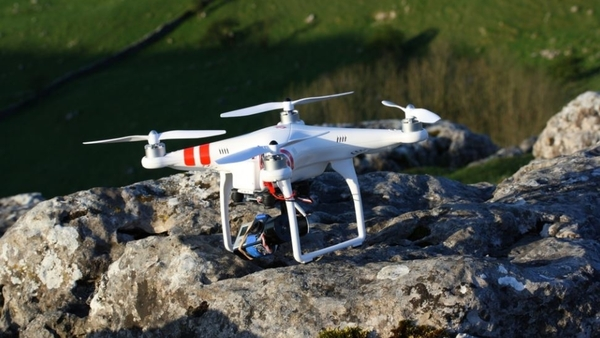drone: (83, 90, 444, 264)
